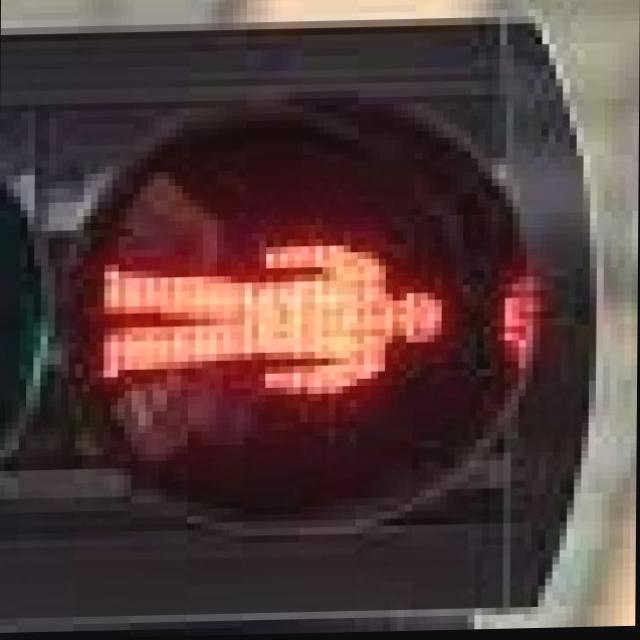red_light: (89, 210, 484, 434)
